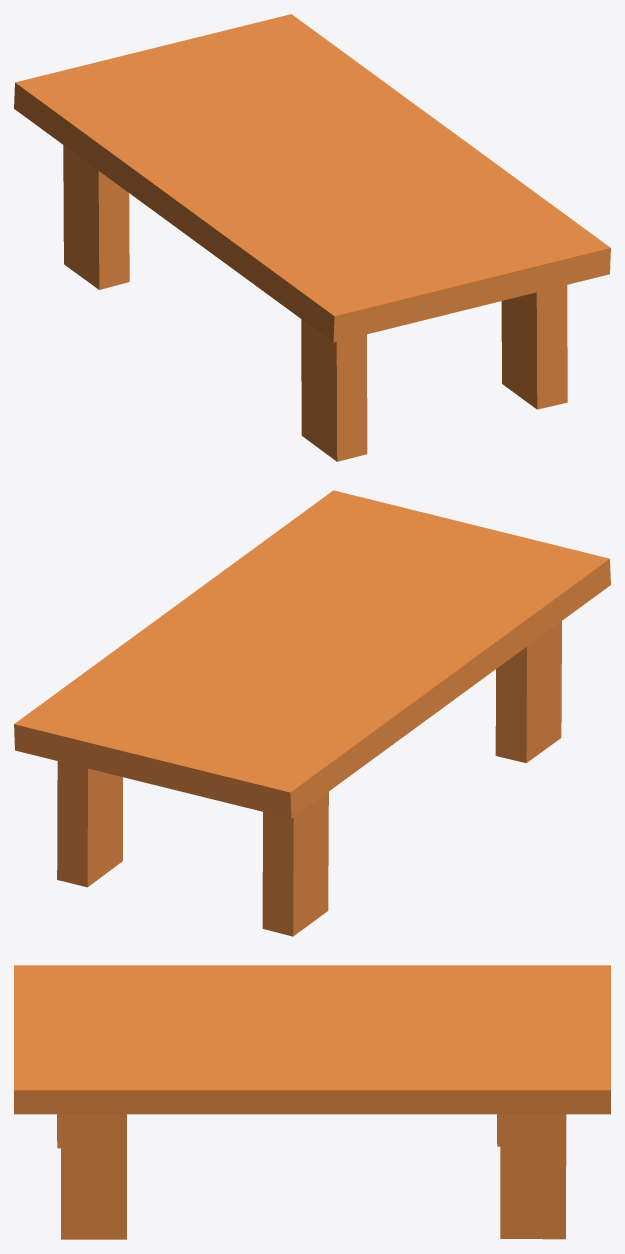
The model's file is Livingroom2_Table.fbx.
3 views of the same model, one above another, from view 1: azimuth 30°, elevation 25°; view 2: azimuth 150°, elevation 25°; view 3: azimuth 270°, elevation 25° (orthographic). The views are drawn at different scales.
Parts seen in each view (by area): view 1: Livingroom2_Table; view 2: Livingroom2_Table; view 3: Livingroom2_Table.
Boxes of the visible parts, x1,y1,x2,y2 form: Livingroom2_Table: (14, 14, 610, 461); Livingroom2_Table: (14, 490, 610, 936); Livingroom2_Table: (14, 965, 610, 1239).
Size of the model in its own units: 87.08 by 50.85 by 174.
